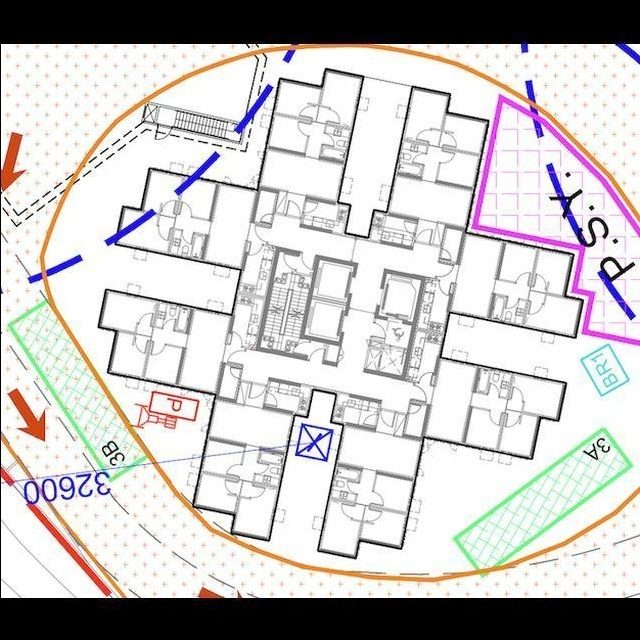tower_crane: (292, 421, 336, 465)
